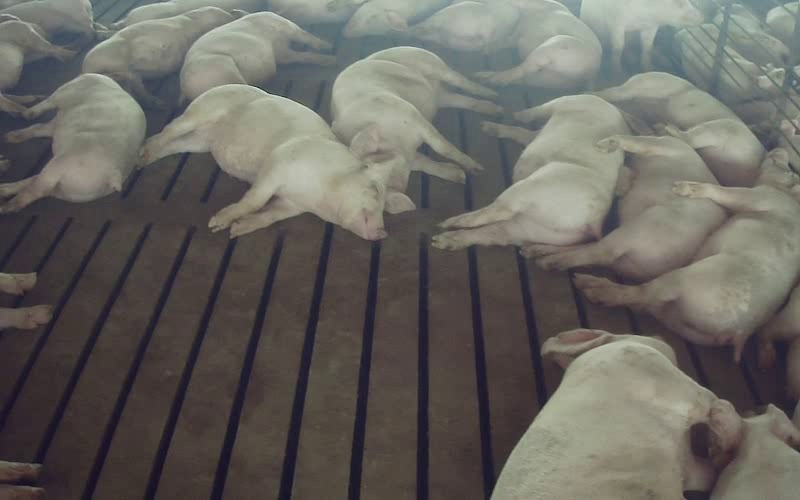pig: (577, 148, 799, 360), (140, 85, 412, 239), (493, 329, 716, 499), (433, 95, 629, 249), (524, 135, 725, 279), (332, 47, 501, 191), (0, 74, 145, 212), (598, 72, 764, 186), (82, 7, 233, 105), (180, 12, 335, 101), (478, 0, 601, 92), (708, 400, 799, 499), (580, 0, 702, 71)
